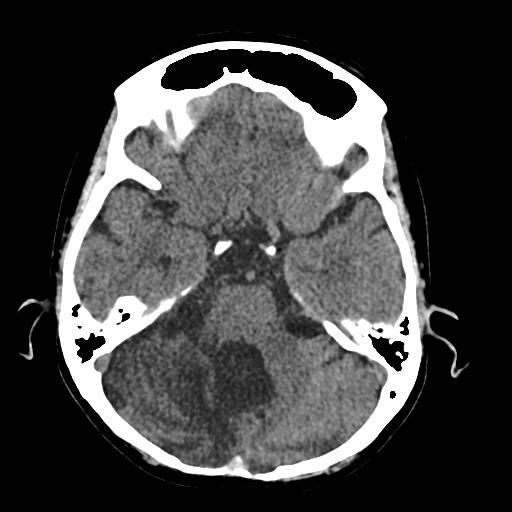Cancer: (198, 329, 296, 419)
